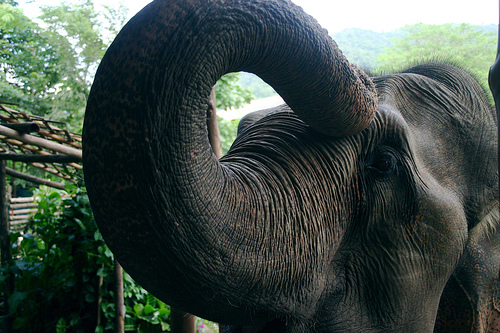elephant: (61, 1, 497, 333)
